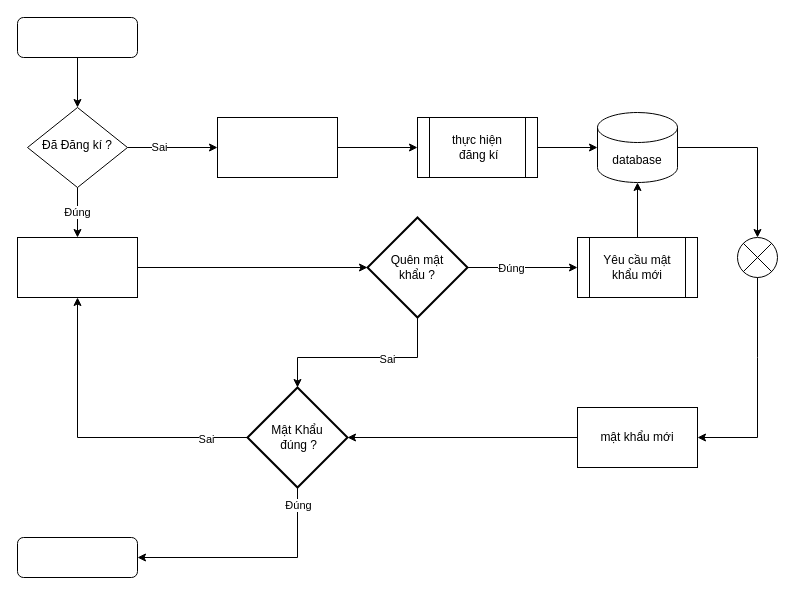
The diagram is 795 pixels wide and 595 high, and some of its shapes have lost their labels. Each missing label, with the centre of its shape:
"Bắt đầu" goes at [77,37].
"Kết thúc" goes at [77,557].
"tạo user mới" goes at [277,147].
"Đăng Nhập" goes at [77,267].
